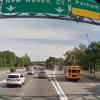Bus: (63, 63, 85, 83)
